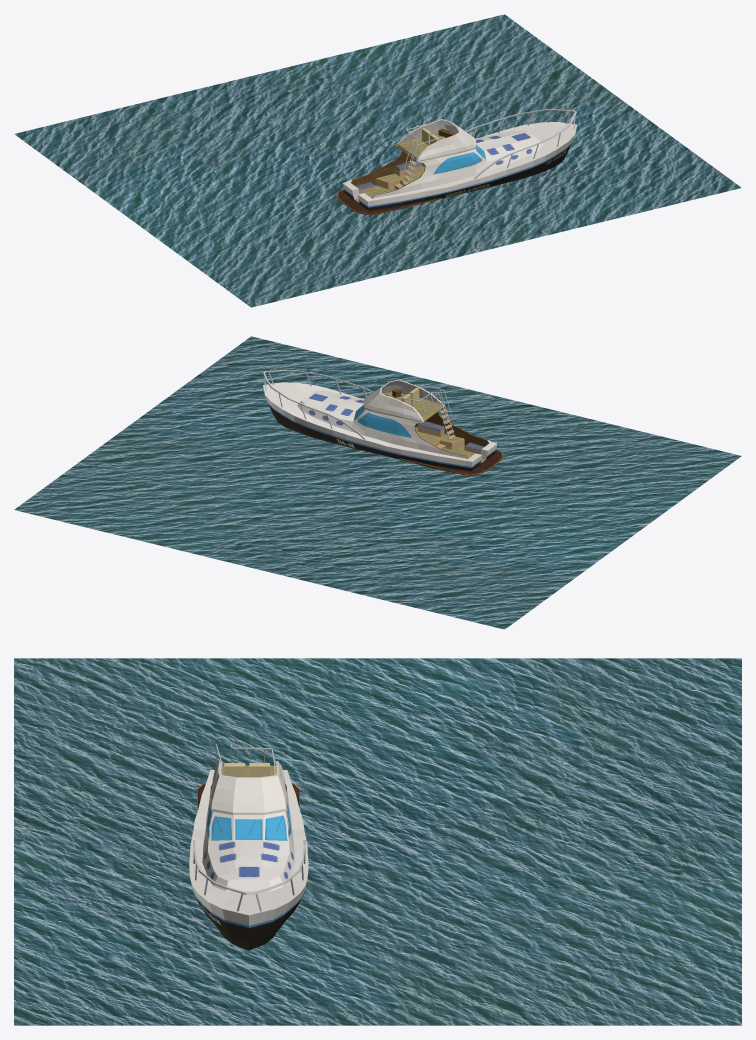
3 renders of one model, top to bottom at view 1: azimuth 30°, elevation 25°; view 2: azimuth 150°, elevation 25°; view 3: azimuth 270°, elevation 25°, orthographic. The views are drawn at different scales.
Parts seen in each view (by area): view 1: water, yacht-bdy, yacht-missc; view 2: water, yacht-bdy, yacht-missc; view 3: water, yacht-bdy, yacht-missc.
Boxes of the visible parts, x1=… form: water: x1=14, y1=14, x2=741, y2=307; yacht-bdy: x1=342, y1=119, x2=576, y2=210; yacht-missc: x1=337, y1=109, x2=576, y2=215; water: x1=14, y1=336, x2=741, y2=629; yacht-bdy: x1=263, y1=379, x2=497, y2=471; yacht-missc: x1=263, y1=370, x2=502, y2=475; water: x1=14, y1=658, x2=741, y2=1025; yacht-bdy: x1=189, y1=761, x2=308, y2=950; yacht-missc: x1=193, y1=744, x2=305, y2=911.
Bounding box in the file's own units: 27.81 × 3.29 × 23.28.
Materials: 3 (3 with a texture image).
